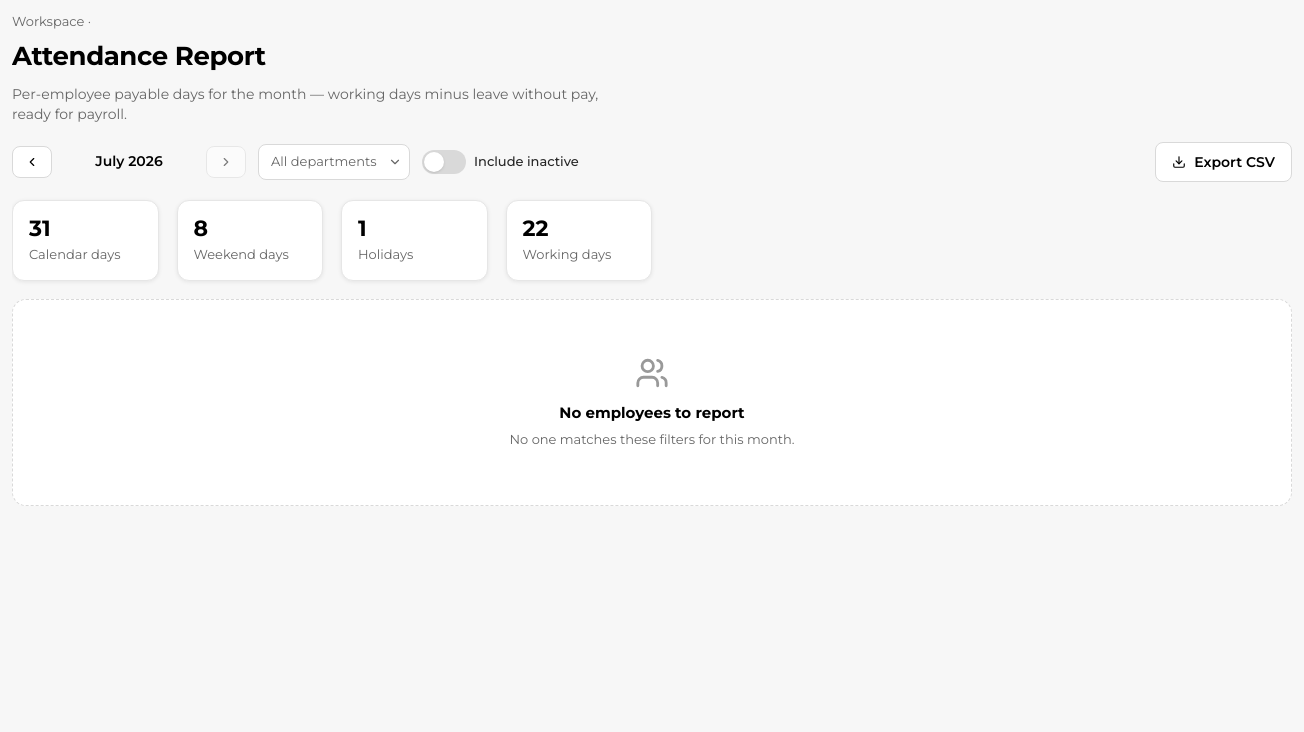
a failed export shows the error next to the button
Expected: the text "No employees to report" is shown, [559,403,745,422]
Click the button "Export CSV" at (1224, 162), box [1155,142,1292,182]
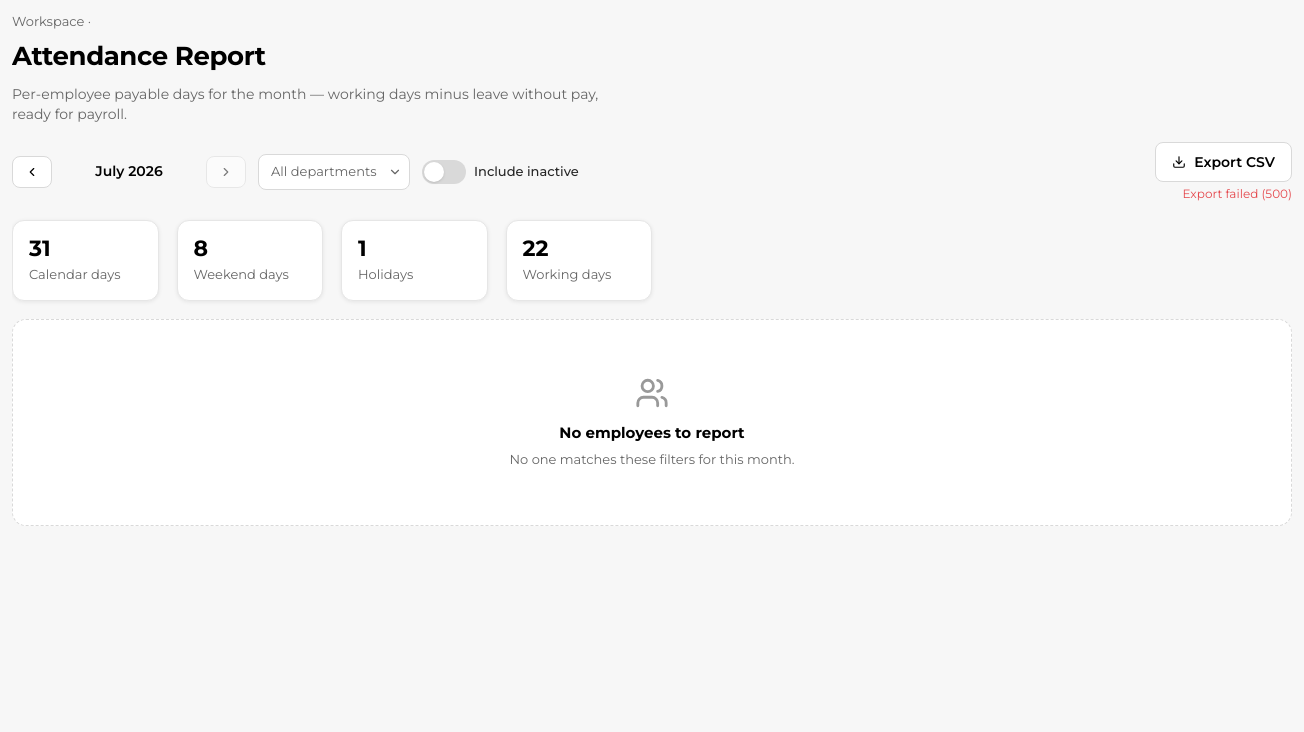
Expected: the text "Export failed (500)" is shown, [1182,186,1292,202]
